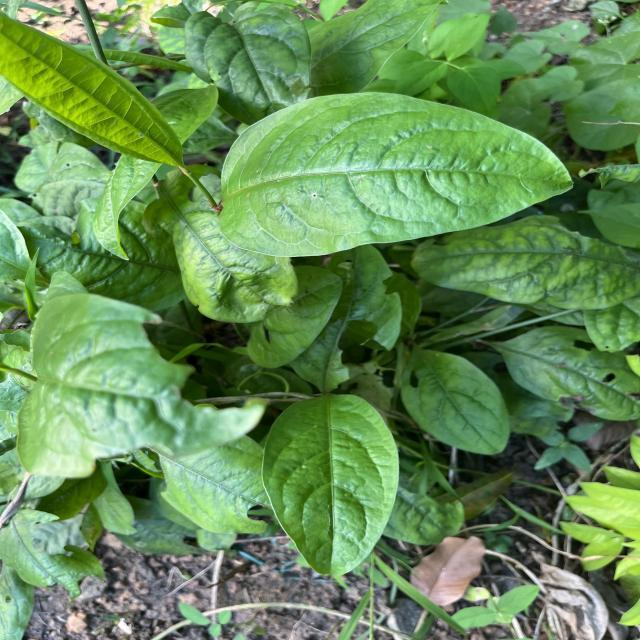Plumbago indica: (218, 86, 584, 263), (0, 10, 193, 174), (258, 389, 404, 582), (405, 210, 640, 312), (398, 347, 514, 458)
